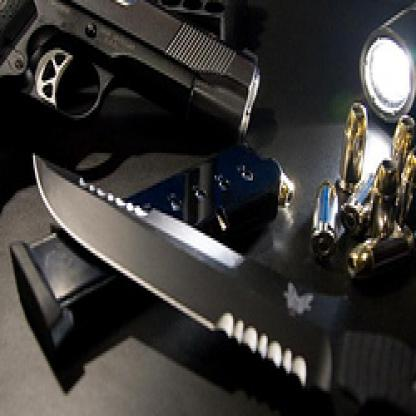gun: (0, 0, 275, 268)
